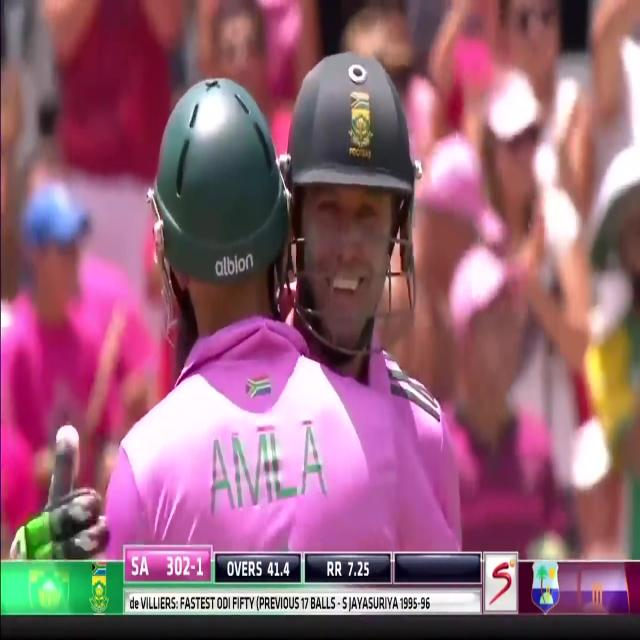Ball: (91, 75, 385, 553)
